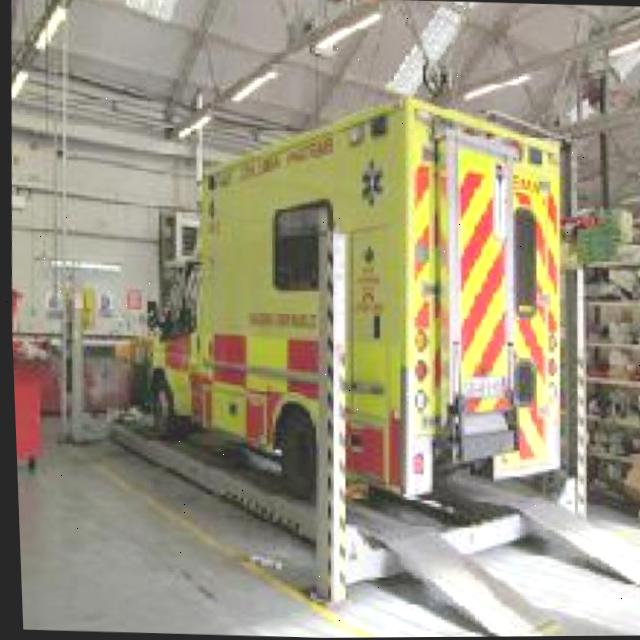emergency: (98, 87, 586, 508)
